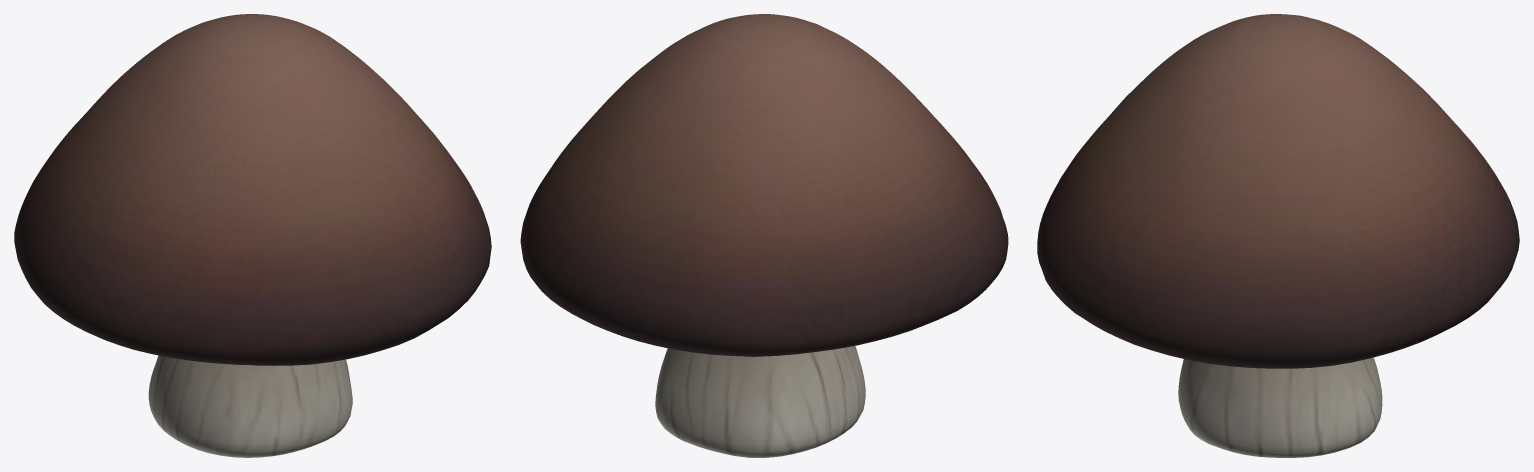
Rendered from 7b9d0ddb5690_stylized_mushroom_b.fbx.
The picture shows the model from 3 angles, left to right: view 1: azimuth 30°, elevation 25°; view 2: azimuth 150°, elevation 25°; view 3: azimuth 270°, elevation 25°; orthographic projection.
Visible parts, largest first — view 1: mesh; view 2: mesh; view 3: mesh.
Part boxes in pixels (box(x1,y1,x2,y2)): mesh: box(14, 14, 491, 457); mesh: box(520, 14, 1008, 457); mesh: box(1037, 14, 1519, 457).
Size of the model in its own units: 99.92 by 91.99 by 99.57.
